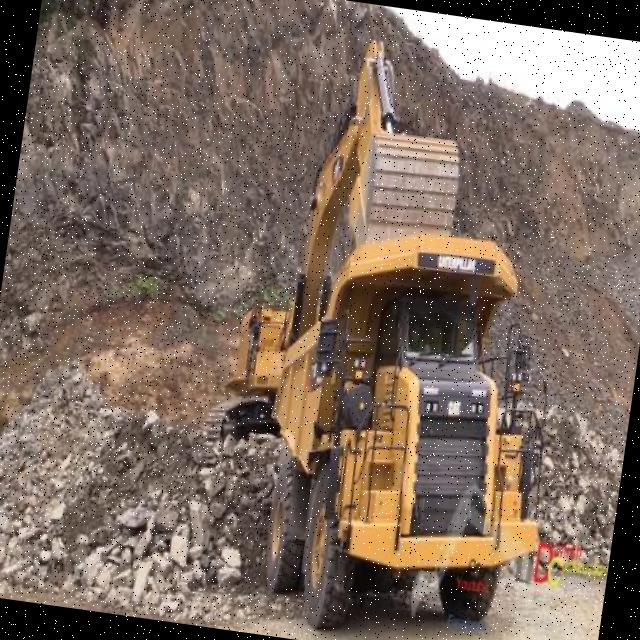Dump Truck: (242, 213, 576, 640)
Excavator: (204, 23, 476, 474)
